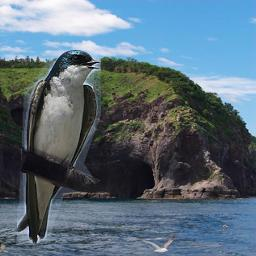Swallow: (17, 50, 101, 244)
